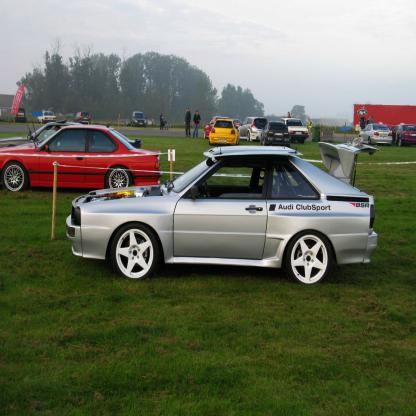Car: (0, 113, 416, 287)
